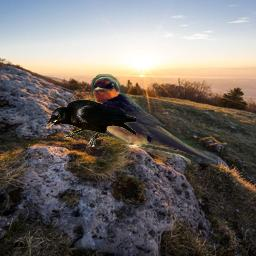Crow: (45, 99, 136, 147)
Swallow: (91, 74, 218, 164)
